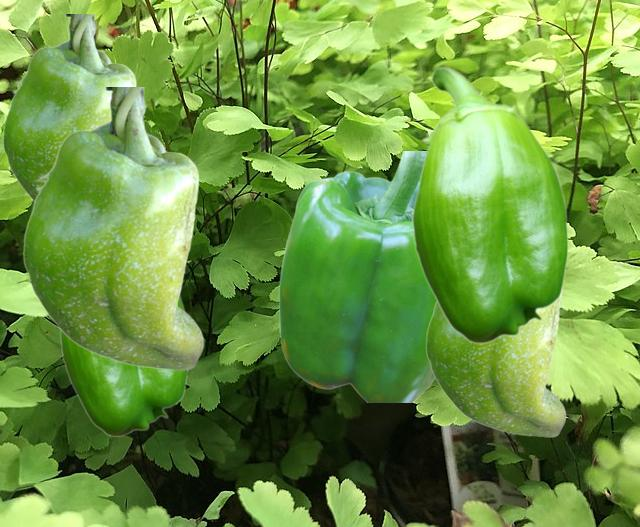bell_pepper: (22, 87, 203, 369), (411, 66, 568, 343), (278, 151, 435, 401), (2, 14, 136, 201), (425, 294, 565, 436), (59, 295, 189, 436)
